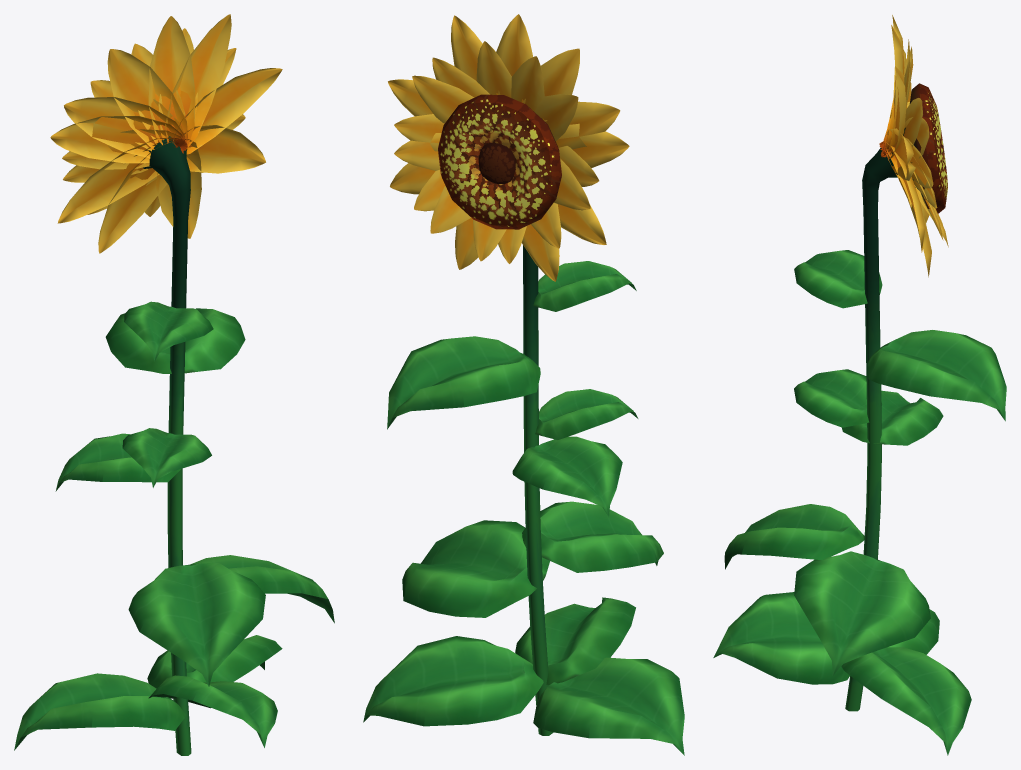
File: sunflower_full.fbx
3 views of the same model, side by side, from view 1: azimuth 30°, elevation 25°; view 2: azimuth 150°, elevation 25°; view 3: azimuth 270°, elevation 25° (orthographic). The views are drawn at different scales.
Visible parts, largest first — view 1: stem, flowerhead; view 2: stem, flowerhead; view 3: stem, flowerhead.
Part boxes in pixels (left/top/right/bottom): stem: left=14, top=136, right=334, bottom=755; flowerhead: left=50, top=14, right=282, bottom=253; stem: left=363, top=245, right=684, bottom=755; flowerhead: left=388, top=14, right=629, bottom=281; stem: left=713, top=148, right=1006, bottom=755; flowerhead: left=879, top=15, right=948, bottom=277.
Size of the model in its own units: 76.65 by 180 by 69.62.
